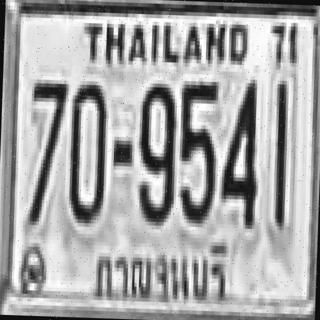N00: (66, 80, 107, 220)
N01: (270, 80, 286, 226)
N04: (218, 77, 257, 223)
N05: (176, 77, 217, 220)
N07: (27, 77, 66, 224)
N09: (136, 79, 175, 222)
P17: (84, 227, 236, 310)
